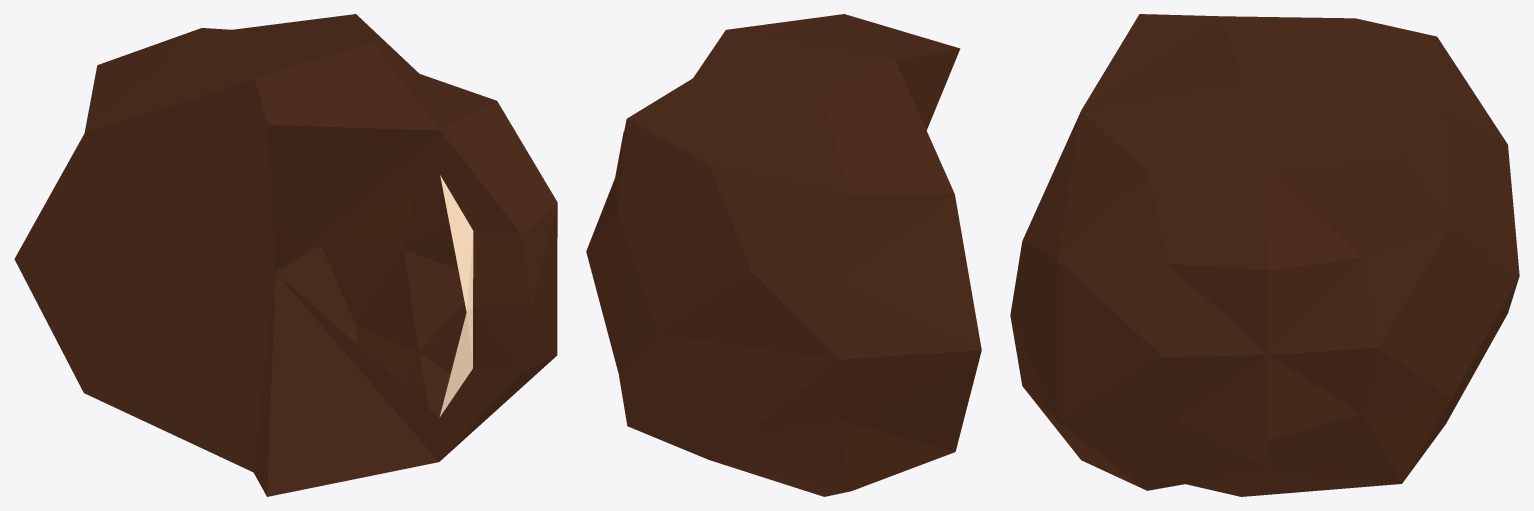
Rendered from hair11.glb.
3 views of the same model, side by side, from view 1: azimuth 30°, elevation 25°; view 2: azimuth 150°, elevation 25°; view 3: azimuth 270°, elevation 25° (orthographic). The views are drawn at different scales.
Visible parts, largest first — view 1: tomodachi-2026-03-10-20-23-54-284, tomodachi-2026-03-10-20-23-54-284.008; view 2: tomodachi-2026-03-10-20-23-54-284; view 3: tomodachi-2026-03-10-20-23-54-284.
Part boxes in pixels (left/top/right/bottom): tomodachi-2026-03-10-20-23-54-284: left=14, top=14, right=557, bottom=496; tomodachi-2026-03-10-20-23-54-284.008: left=440, top=175, right=473, bottom=416; tomodachi-2026-03-10-20-23-54-284: left=586, top=14, right=981, bottom=496; tomodachi-2026-03-10-20-23-54-284: left=1010, top=14, right=1519, bottom=496.
Bounding box in the file's own units: 1.27 × 1.15 × 1.26.
2 materials, 2 textured.
